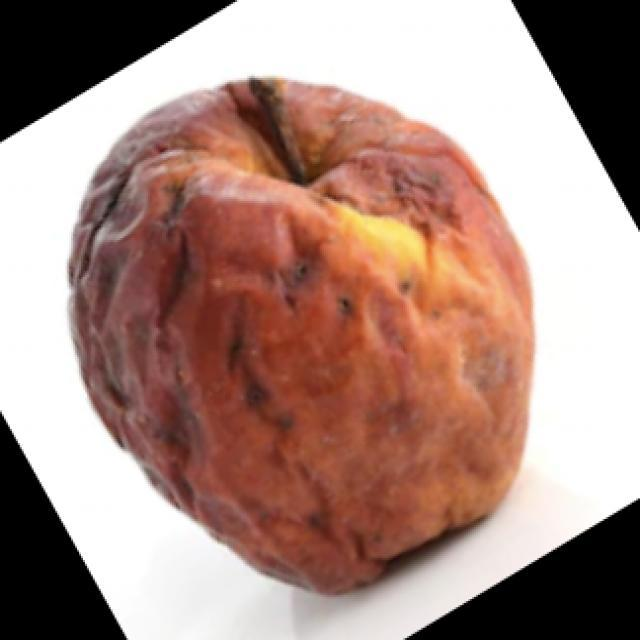Rotten: (78, 99, 542, 554)
